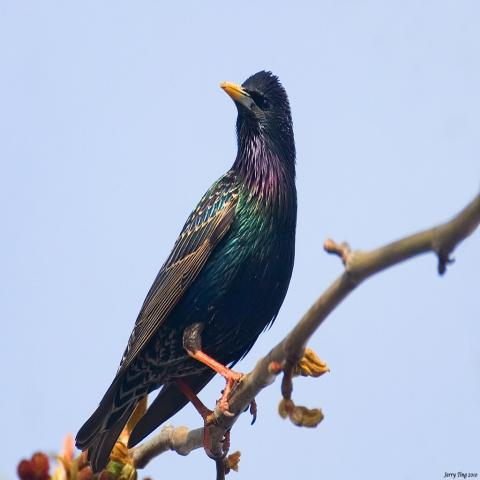bird: (73, 67, 299, 473)
